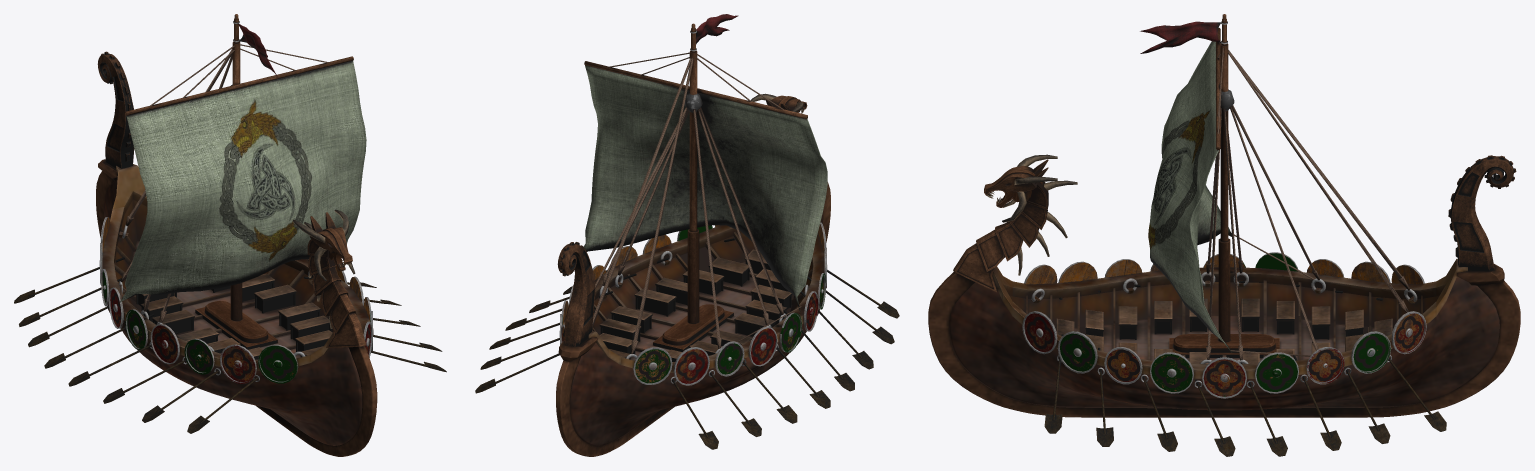
3 renders of one model, left to right at view 1: azimuth 30°, elevation 25°; view 2: azimuth 150°, elevation 25°; view 3: azimuth 270°, elevation 25°, orthographic. The views are drawn at different scales.
Parts seen in each view (by area): view 1: Plane, Cube, Cube.002, Cylinder.002, Cube.005, Cube.026, Cube.001, Plane.004, Spiral.001, Cube.003, Cylinder.001, Cylinder (+6 smaller); view 2: Plane, Cube.002, Cube, Cube.005, Cylinder.002, Cube.009, Cube.026, Cube.001, Cylinder, Spiral.001, Cube.003, Cylinder.001 (+2 smaller); view 3: Cube, Cube.002, Cylinder.002, Plane, Cube.001, Cube.005, Cube.009, Cube.026, Spiral.001, Plane.004, Cylinder, Cube.003 (+5 smaller).
Part boxes in pixels (bbox=[...]): Plane: bbox=[119, 60, 366, 302]; Cube: bbox=[103, 178, 362, 445]; Cube.002: bbox=[102, 164, 369, 370]; Cylinder.002: bbox=[99, 217, 373, 383]; Cube.005: bbox=[136, 273, 332, 359]; Cube.026: bbox=[14, 257, 446, 433]; Cube.001: bbox=[96, 159, 377, 456]; Plane.004: bbox=[307, 239, 365, 347]; Spiral.001: bbox=[97, 51, 134, 168]; Cube.003: bbox=[195, 300, 277, 349]; Cylinder.001: bbox=[125, 56, 353, 115]; Cylinder: bbox=[230, 14, 242, 320]; Plane: bbox=[583, 65, 827, 311]; Cube.002: bbox=[563, 225, 824, 372]; Cube: bbox=[570, 211, 823, 445]; Cube.005: bbox=[599, 249, 792, 361]; Cylinder.002: bbox=[559, 222, 827, 385]; Cube.009: bbox=[592, 57, 783, 353]; Cube.026: bbox=[475, 238, 899, 449]; Cube.001: bbox=[556, 182, 830, 456]; Cylinder: bbox=[684, 23, 702, 323]; Spiral.001: bbox=[557, 242, 595, 346]; Cube.003: bbox=[653, 304, 733, 352]; Cylinder.001: bbox=[584, 61, 807, 119]; Cube: bbox=[949, 277, 1499, 410]; Cube.002: bbox=[992, 258, 1467, 378]; Cylinder.002: bbox=[1022, 252, 1426, 398]; Plane: bbox=[1148, 41, 1232, 352]; Cube.001: bbox=[928, 264, 1520, 417]; Cube.005: bbox=[1056, 298, 1392, 363]; Cube.009: bbox=[1206, 50, 1409, 360]; Cube.026: bbox=[1044, 281, 1446, 456]; Spiral.001: bbox=[1448, 155, 1516, 271]; Plane.004: bbox=[953, 181, 1048, 292]; Cylinder: bbox=[1218, 14, 1234, 342]; Cube.003: bbox=[1169, 334, 1279, 357].
Bounding box in the file's own units: 750 × 811 × 1082.
22 materials, 22 textured.
